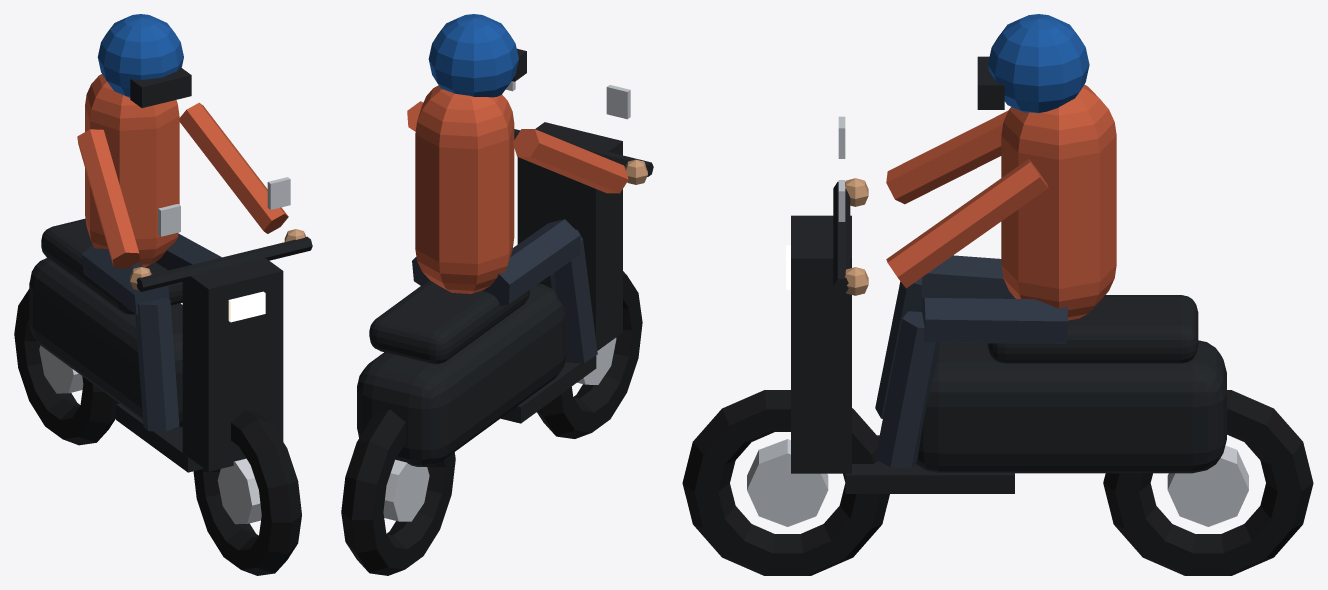
The model's file is motorbike_b.glb.
3 renders of one model, left to right at view 1: azimuth 30°, elevation 25°; view 2: azimuth 150°, elevation 25°; view 3: azimuth 270°, elevation 25°, orthographic. The views are drawn at different scales.
Visible parts, largest first — view 1: moto; view 2: moto; view 3: moto.
Part boxes in pixels (x1,y1,x2,y2): moto: [14, 14, 312, 575]; moto: [341, 14, 653, 575]; moto: [682, 14, 1313, 575].
Bounding box in the file's own units: 0.71 × 1.81 × 1.86.
